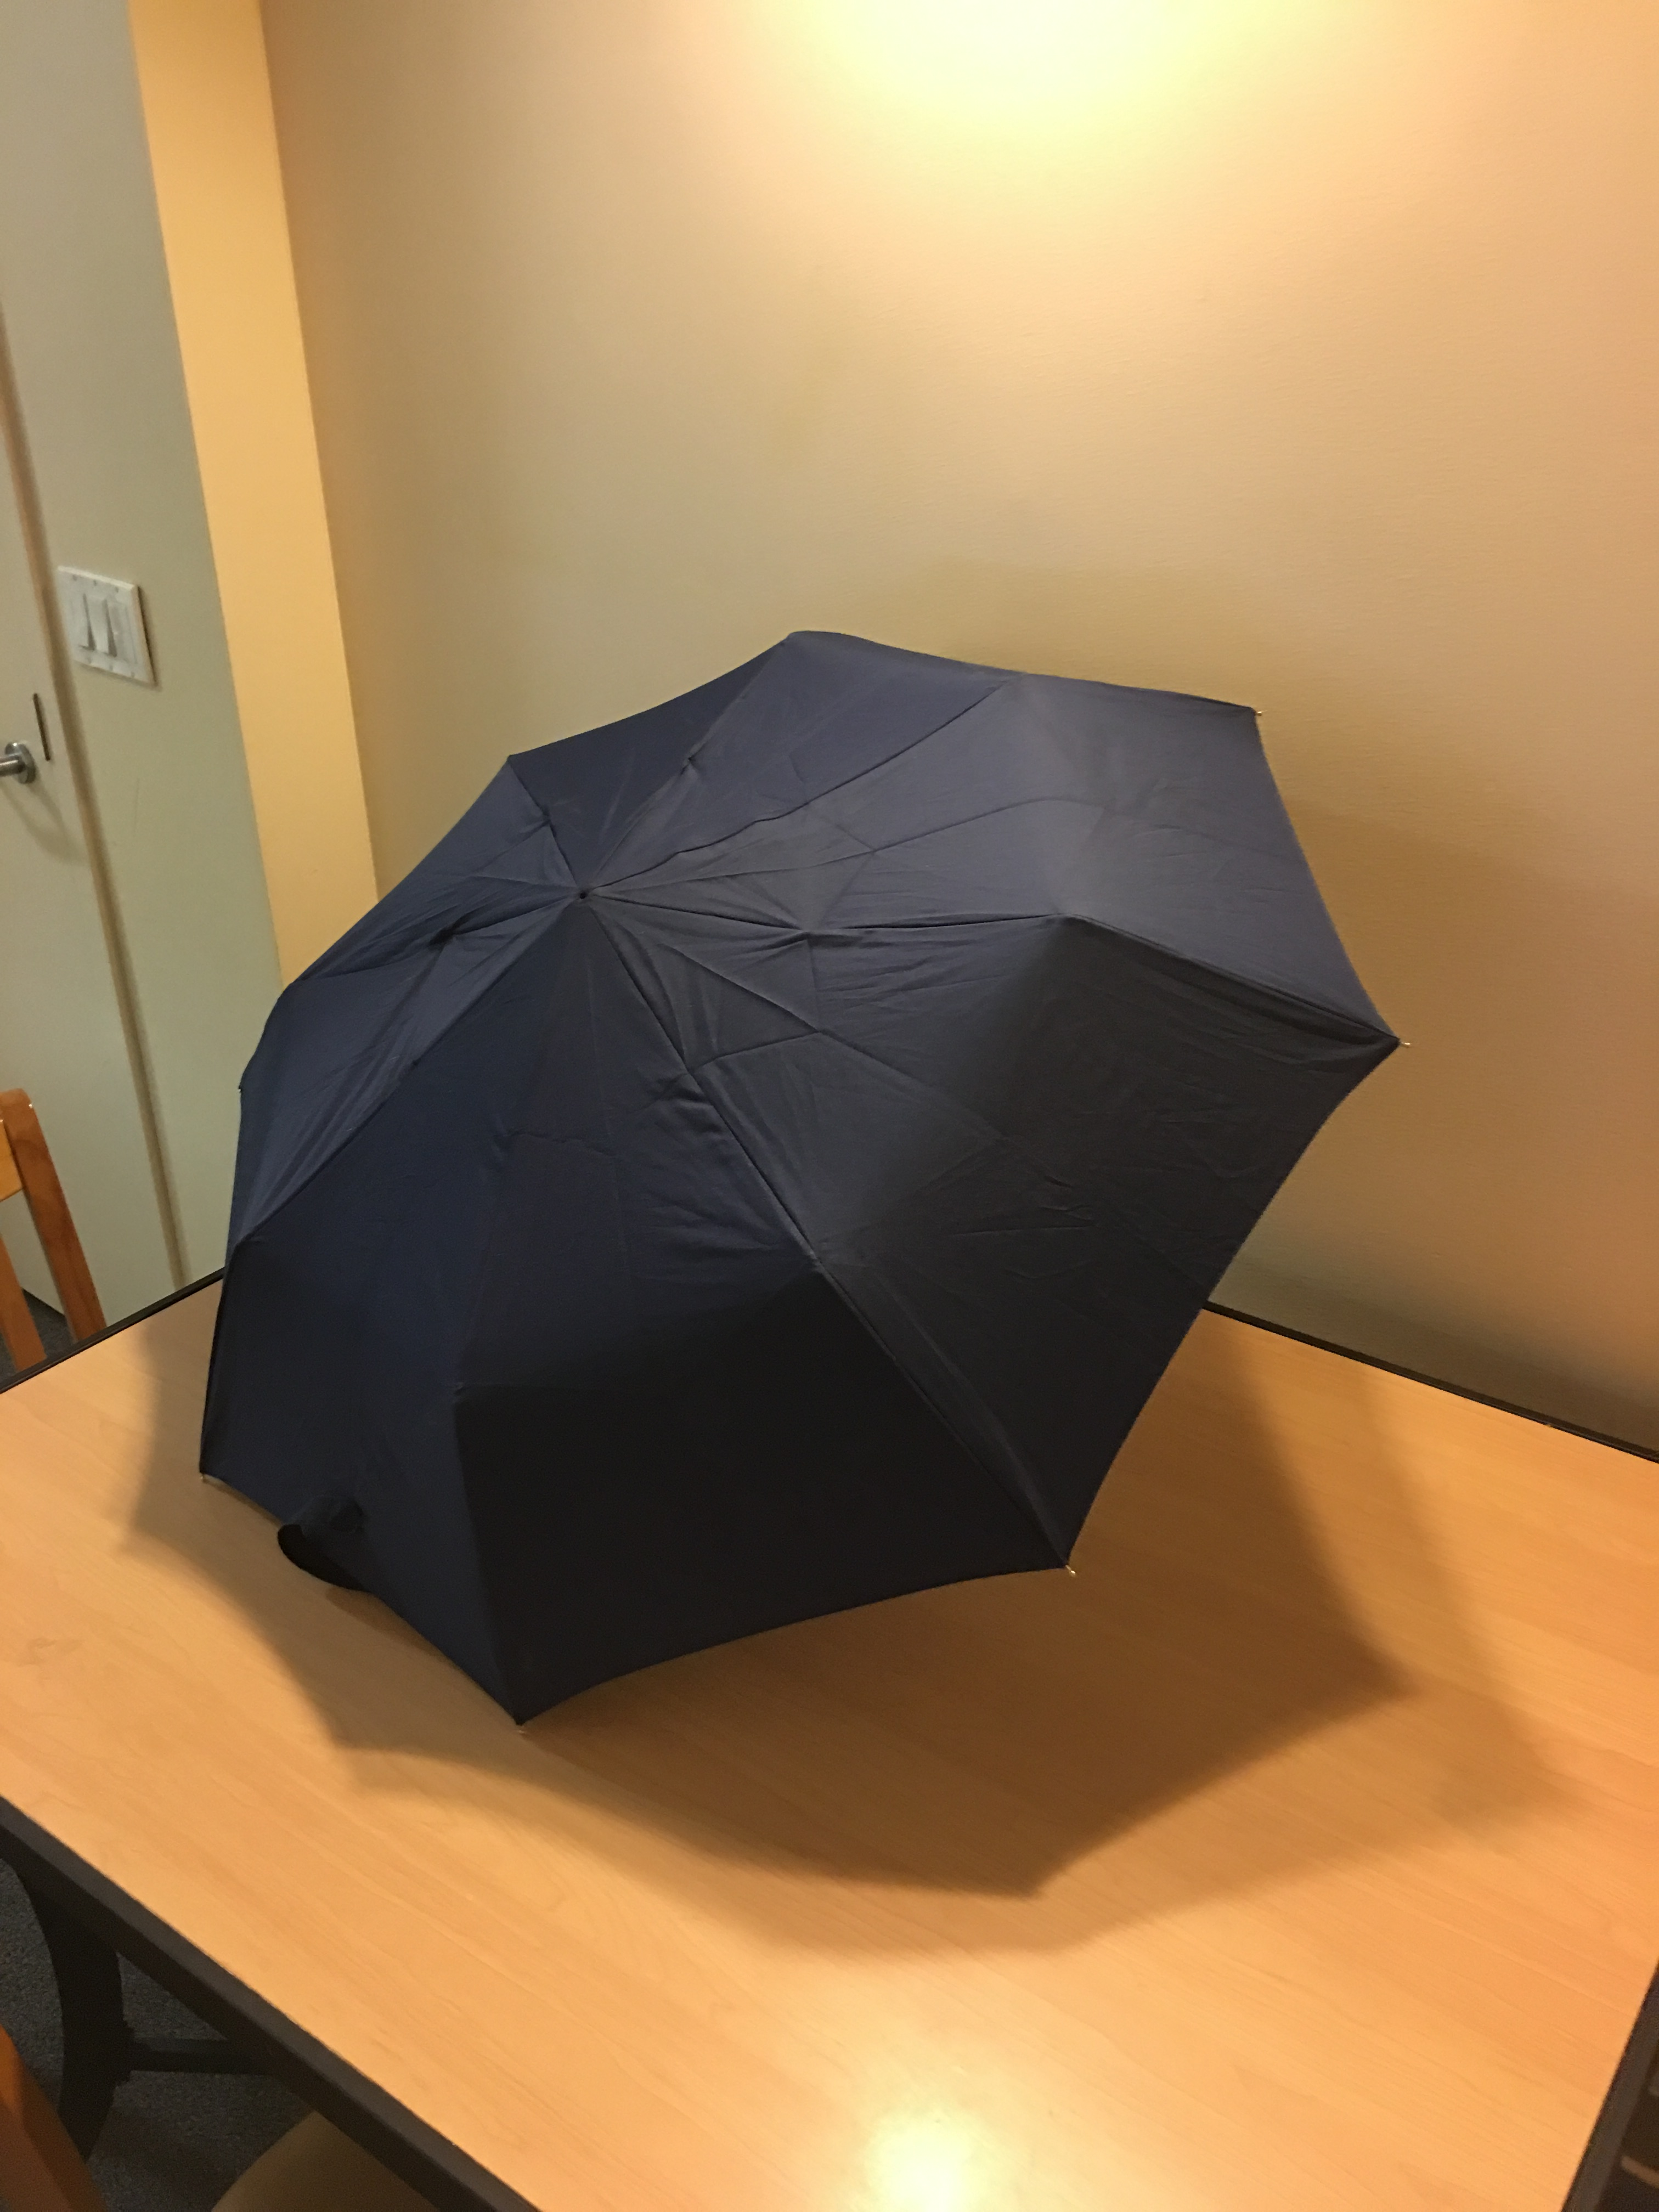Umbrella: (199, 617, 1408, 1735)
